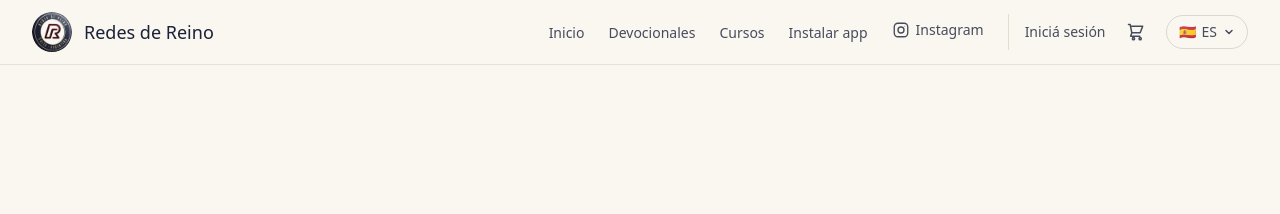
it: Navbar › offers all three languages in the desktop language switcher
The width and height of the screenshot is (1280, 214).
Click the button with aria-label "Idioma": (1207,32) [1166,15,1248,49]
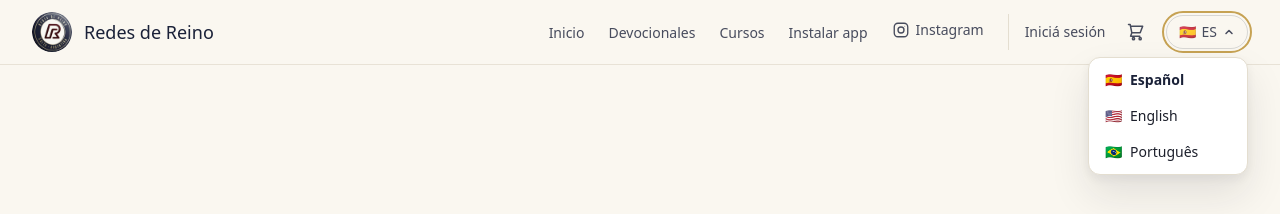
Expected: the option "🇪🇸 Español" is shown, [1105,70,1184,89]
Expected: the option "🇺🇸 English" is shown, [1105,106,1178,125]
Expected: the option "🇧🇷 Português" is shown, [1105,142,1198,161]
